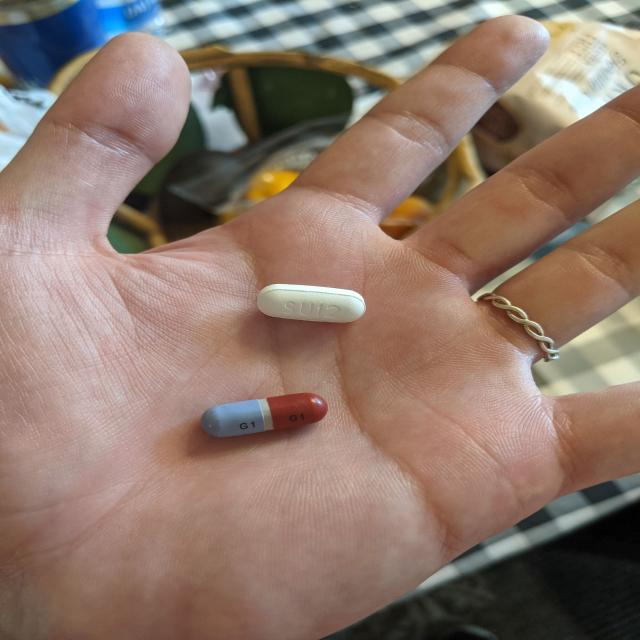non-organic waste: (199, 391, 329, 438), (255, 281, 367, 326)
